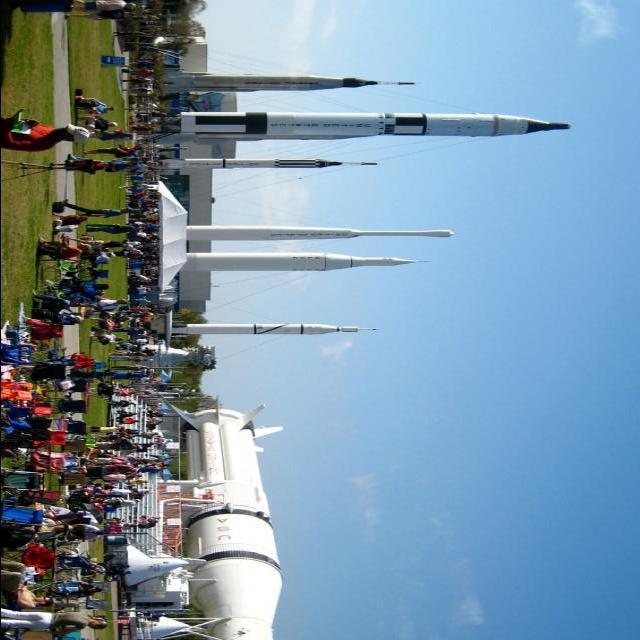Missile: (178, 403, 292, 640), (179, 112, 567, 146), (180, 219, 458, 243), (158, 72, 414, 92), (174, 251, 427, 269), (160, 158, 390, 174), (166, 323, 375, 335)
